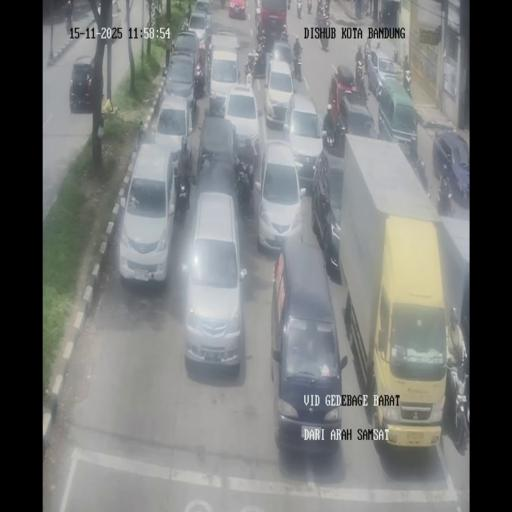car: (270, 238, 342, 450), (182, 192, 246, 371), (118, 144, 178, 284), (314, 149, 345, 277), (284, 93, 324, 188), (376, 79, 419, 158), (222, 80, 260, 164), (433, 131, 470, 205), (335, 93, 376, 153), (162, 53, 198, 119), (264, 59, 295, 128), (70, 53, 100, 113), (366, 48, 400, 97), (186, 8, 212, 49)
motorcycle: (234, 158, 256, 212), (454, 377, 470, 446), (174, 172, 190, 222), (322, 103, 338, 153), (410, 153, 428, 189), (193, 49, 206, 97), (245, 48, 257, 82), (292, 50, 303, 82), (196, 144, 206, 176), (402, 66, 412, 96), (355, 54, 365, 84), (366, 120, 380, 140), (320, 24, 330, 51), (409, 133, 419, 158), (206, 44, 212, 83), (254, 7, 262, 35), (62, 0, 72, 22), (364, 47, 372, 73), (314, 4, 324, 24), (258, 28, 266, 52), (323, 6, 331, 26), (180, 19, 188, 33), (362, 0, 368, 17), (296, 2, 302, 18), (378, 8, 384, 23), (280, 31, 288, 42), (307, 0, 312, 14), (254, 0, 260, 11), (287, 0, 291, 10)
truck: (336, 141, 457, 447), (440, 220, 470, 404), (85, 0, 121, 38), (258, 0, 288, 45), (211, 26, 241, 57)
